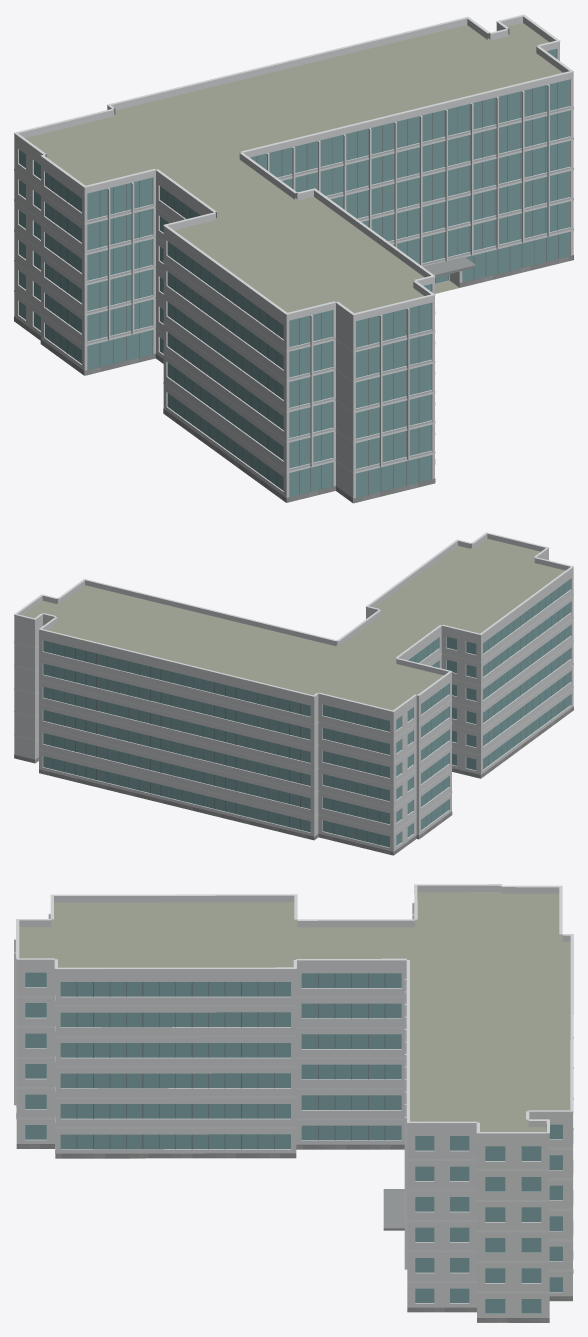
The picture shows the model from 3 angles, top to bottom: view 1: azimuth 30°, elevation 25°; view 2: azimuth 150°, elevation 25°; view 3: azimuth 270°, elevation 25°; orthographic projection. The views are drawn at different scales.
Parts seen in each view (by area): view 1: infoTech__glass, infoTech__roof, infoTech__wall, infoTech__trim, infoTech__parapet, infoTech__frame, infoTech__spandrel, infoTech__base; view 2: infoTech__wall, infoTech__glass, infoTech__roof, infoTech__trim, infoTech__parapet, infoTech__frame, infoTech__base; view 3: infoTech__wall, infoTech__roof, infoTech__glass, infoTech__trim, infoTech__parapet, infoTech__base, infoTech__frame, infoTech__canopy.
Part boxes in pixels (x1,y1,x2,y2): infoTech__glass: (19, 49, 569, 497); infoTech__roof: (25, 23, 562, 459); infoTech__wall: (14, 28, 573, 503); infoTech__trim: (14, 14, 573, 473); infoTech__parapet: (14, 16, 573, 321); infoTech__frame: (52, 82, 558, 494); infoTech__spandrel: (87, 106, 570, 471); infoTech__base: (14, 255, 573, 503); infoTech__wall: (14, 553, 573, 855); infoTech__glass: (43, 579, 570, 847); infoTech__roof: (22, 538, 565, 710); infoTech__trim: (14, 532, 573, 832); infoTech__parapet: (14, 533, 573, 716); infoTech__frame: (53, 583, 564, 844); infoTech__base: (14, 707, 573, 855); infoTech__wall: (16, 966, 573, 1317); infoTech__roof: (16, 892, 572, 1322); infoTech__glass: (25, 972, 562, 1313); infoTech__trim: (14, 884, 573, 1293); infoTech__parapet: (16, 885, 572, 1139); infoTech__base: (16, 1114, 573, 1322); infoTech__frame: (76, 973, 385, 1149); infoTech__canopy: (383, 1189, 404, 1230).
Bounding box in the file's own units: 64.83 × 23.02 × 61.57.
11 materials, 1 textured.
